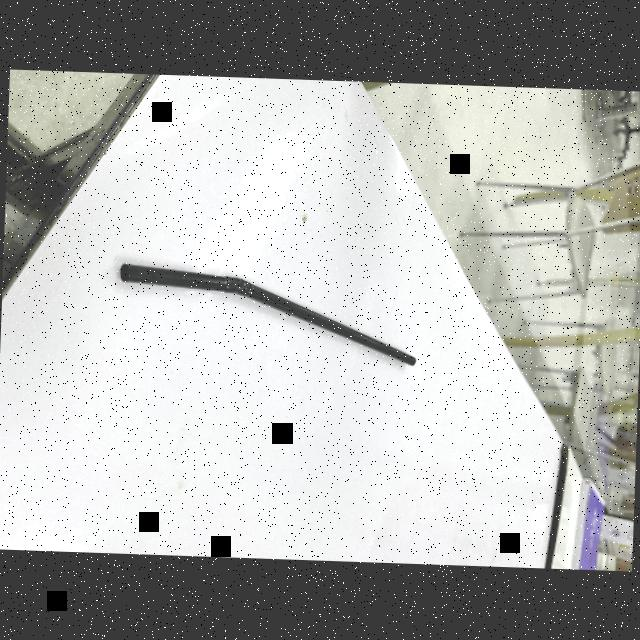straw: (108, 255, 422, 372)
